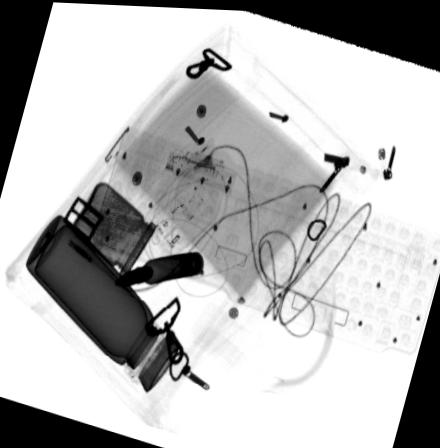Bullet: (111, 248, 204, 287)
